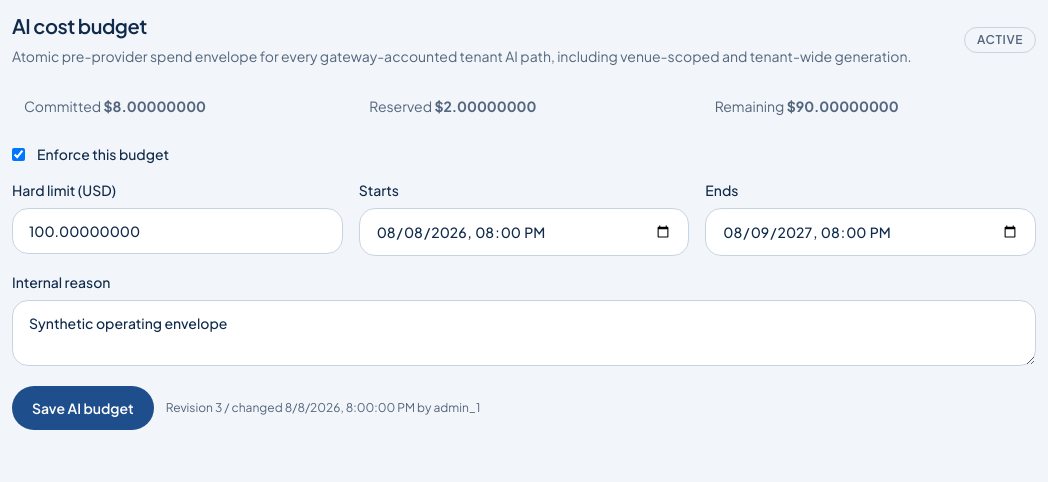
it: AdminAiCostBudgetForm › shows exact counters and submits the displayed revision
Expected: the text "including venue-scoped and tenant-wide generation" is shown, x1=12 y1=47 x2=912 y2=65
Expected: the text "Committed" shows "$8.00000000", x1=12 y1=84 x2=345 y2=128
Click the button "Save AI budget".
click(83, 408)  # box x1=12 y1=386 x2=154 y2=430
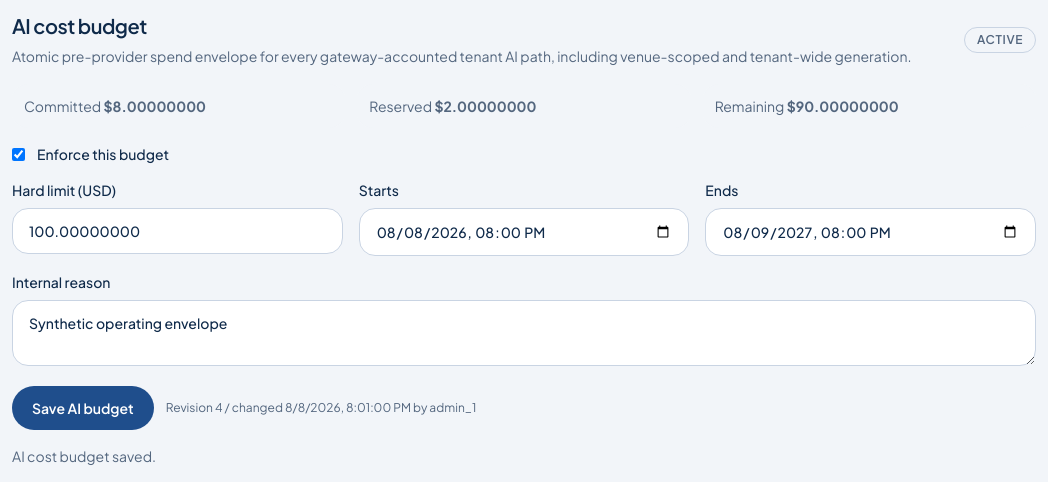
Result: the text "AI cost budget saved." is shown at x1=12 y1=447 x2=156 y2=465
